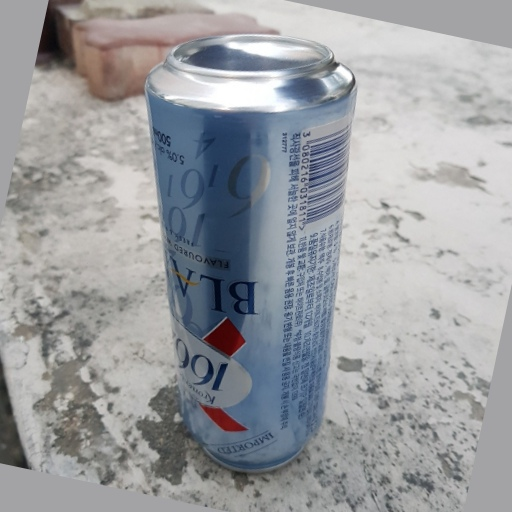Metal_0: (140, 35, 356, 476)
